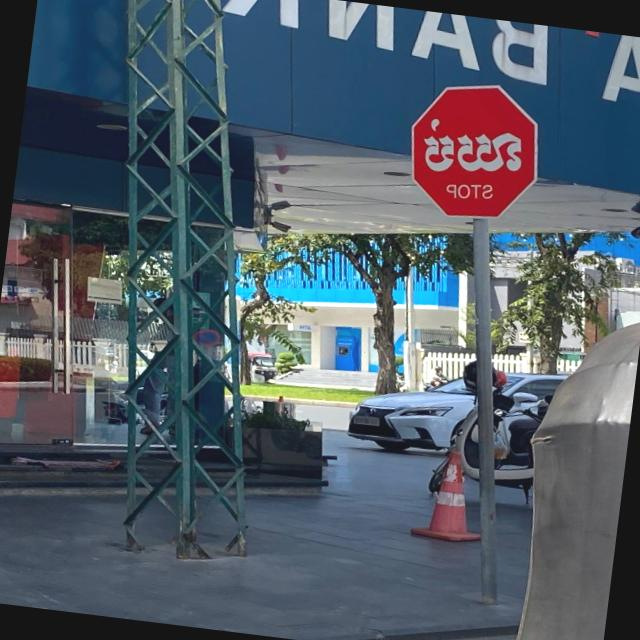Yolov11kh: (418, 113, 526, 178)
